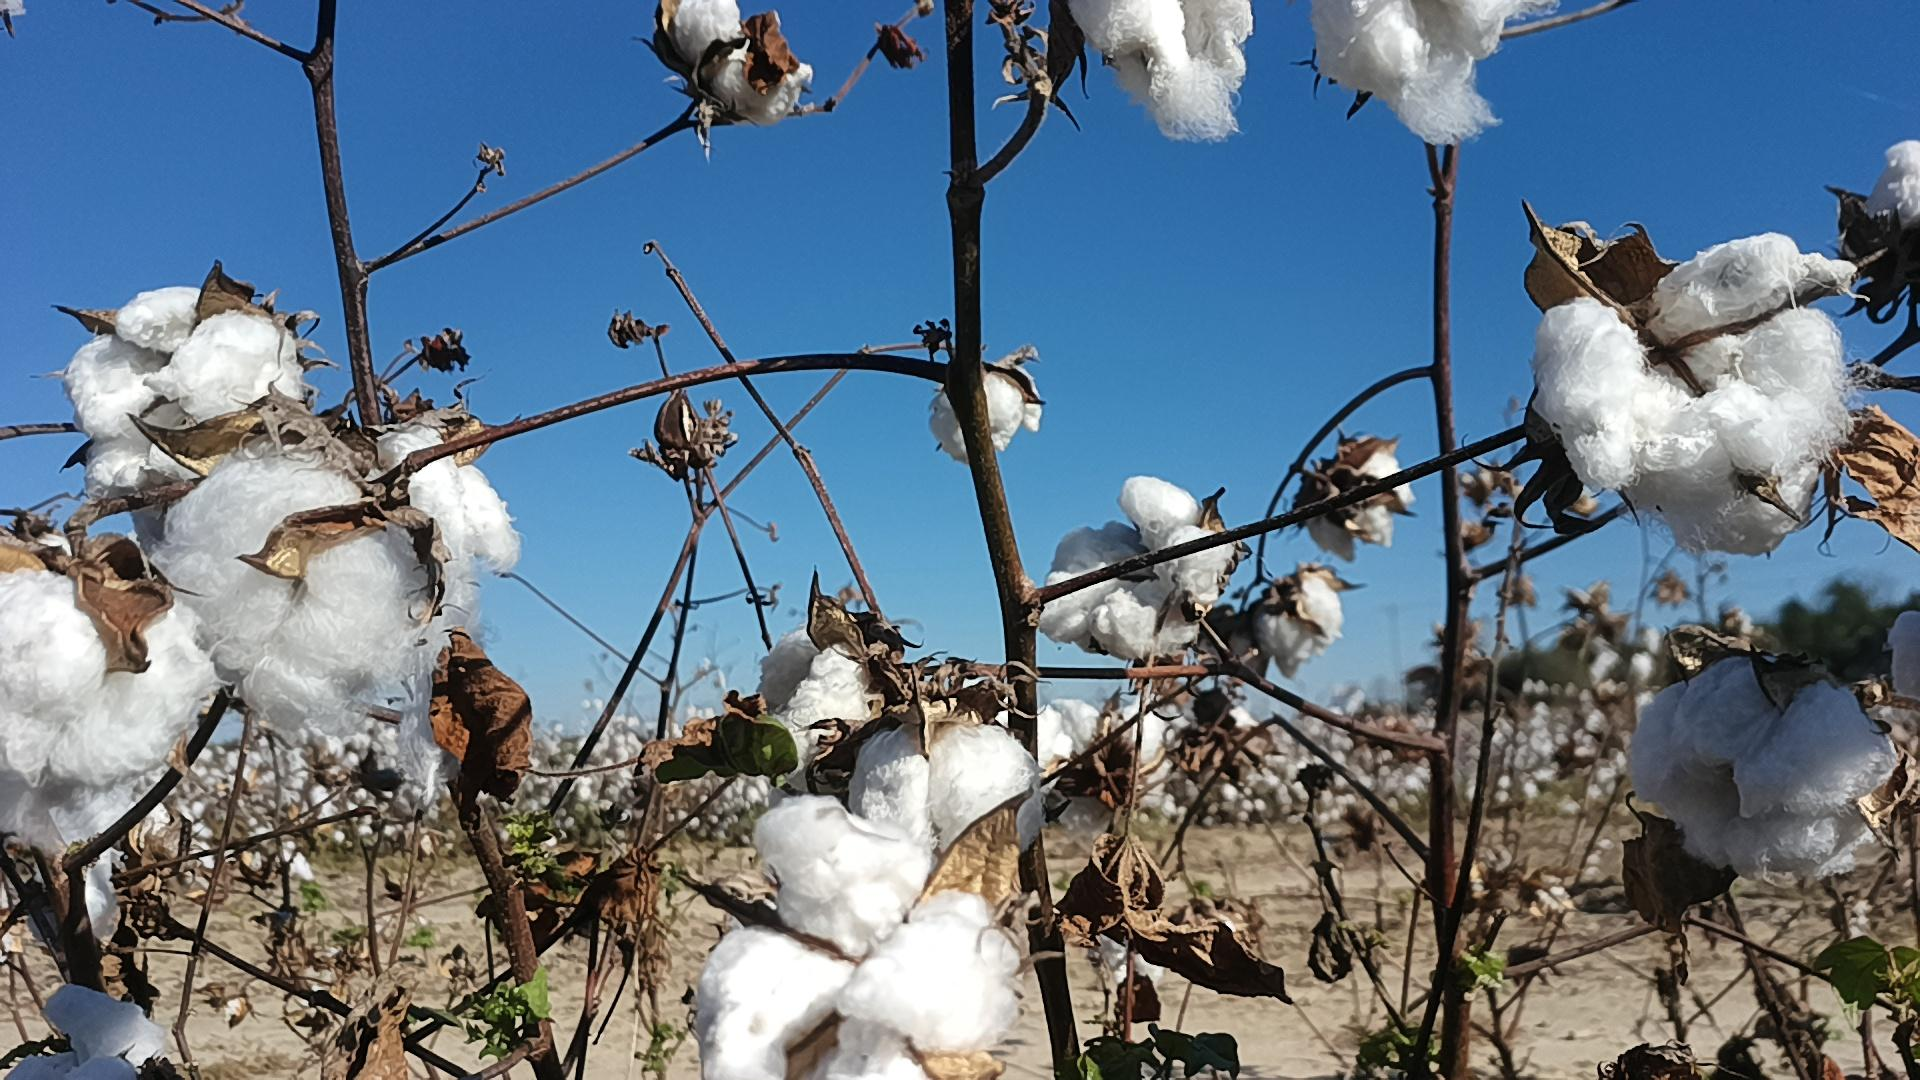cotton_ready: (148, 429, 468, 745), (698, 798, 1026, 1080), (1538, 233, 1855, 498), (0, 535, 208, 858), (1623, 655, 1898, 881), (373, 418, 522, 777), (63, 286, 310, 489), (1039, 476, 1238, 663), (1309, 0, 1520, 150), (845, 711, 1048, 862), (1065, 0, 1258, 145), (28, 800, 173, 953), (1018, 698, 1168, 841), (758, 633, 882, 789), (671, 0, 815, 128), (1, 985, 167, 1080), (1308, 446, 1414, 562), (930, 363, 1043, 463), (1259, 574, 1348, 682), (1863, 138, 1920, 274), (1888, 608, 1920, 707)
